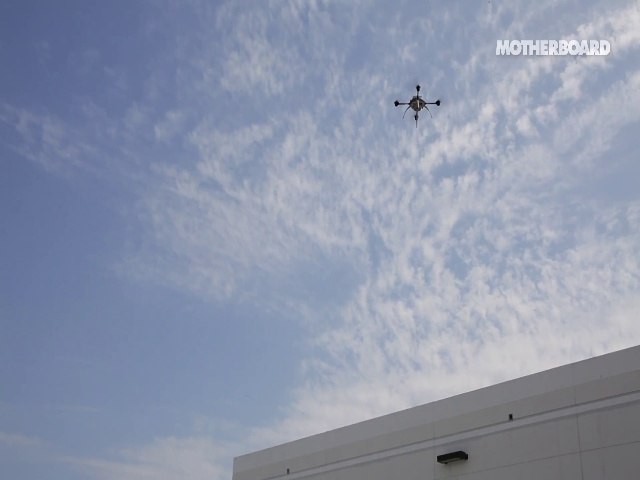drone: (387, 78, 446, 134)
